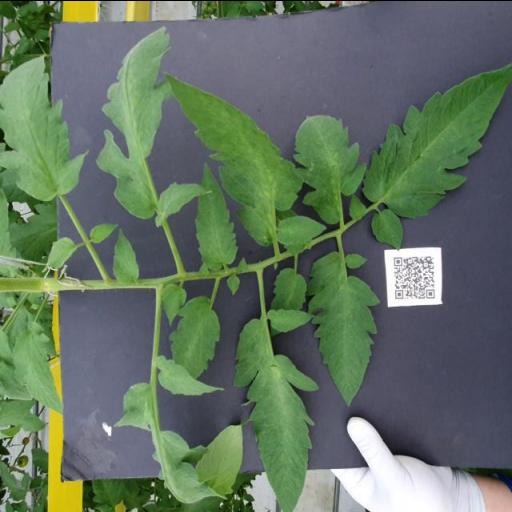Healthy: (361, 53, 512, 219), (232, 309, 318, 512), (95, 24, 172, 218), (0, 54, 88, 204), (306, 250, 380, 406), (194, 161, 238, 269), (168, 294, 220, 378), (154, 354, 226, 394), (154, 180, 212, 226), (112, 226, 140, 282), (276, 215, 326, 245)
